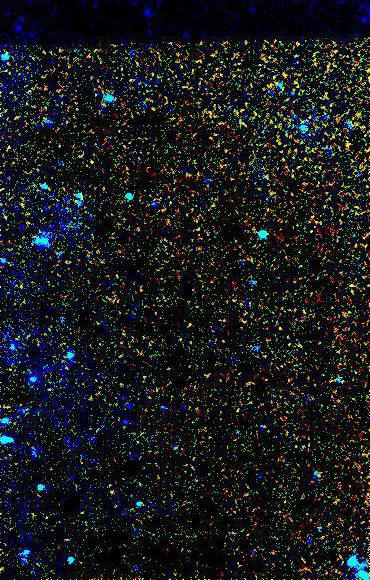star: (97, 474, 127, 504)
